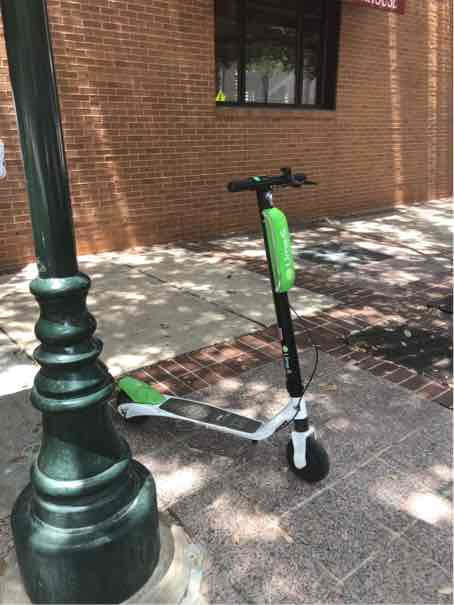scooter: (106, 155, 331, 491)
